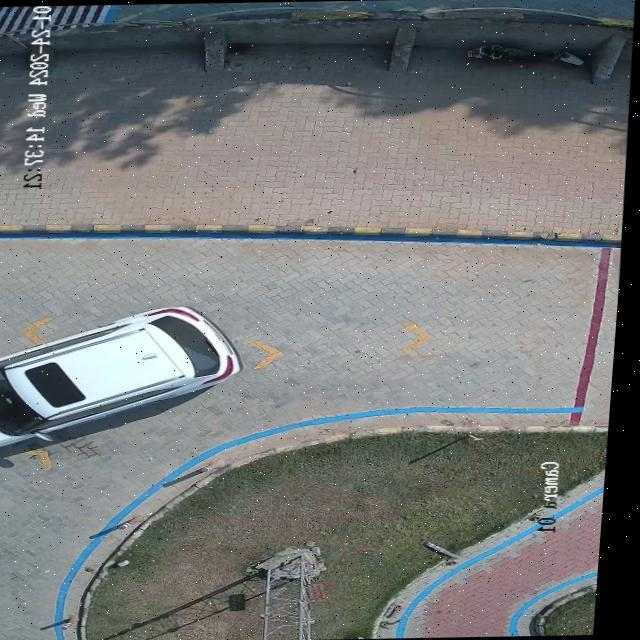car: (0, 304, 245, 448)
